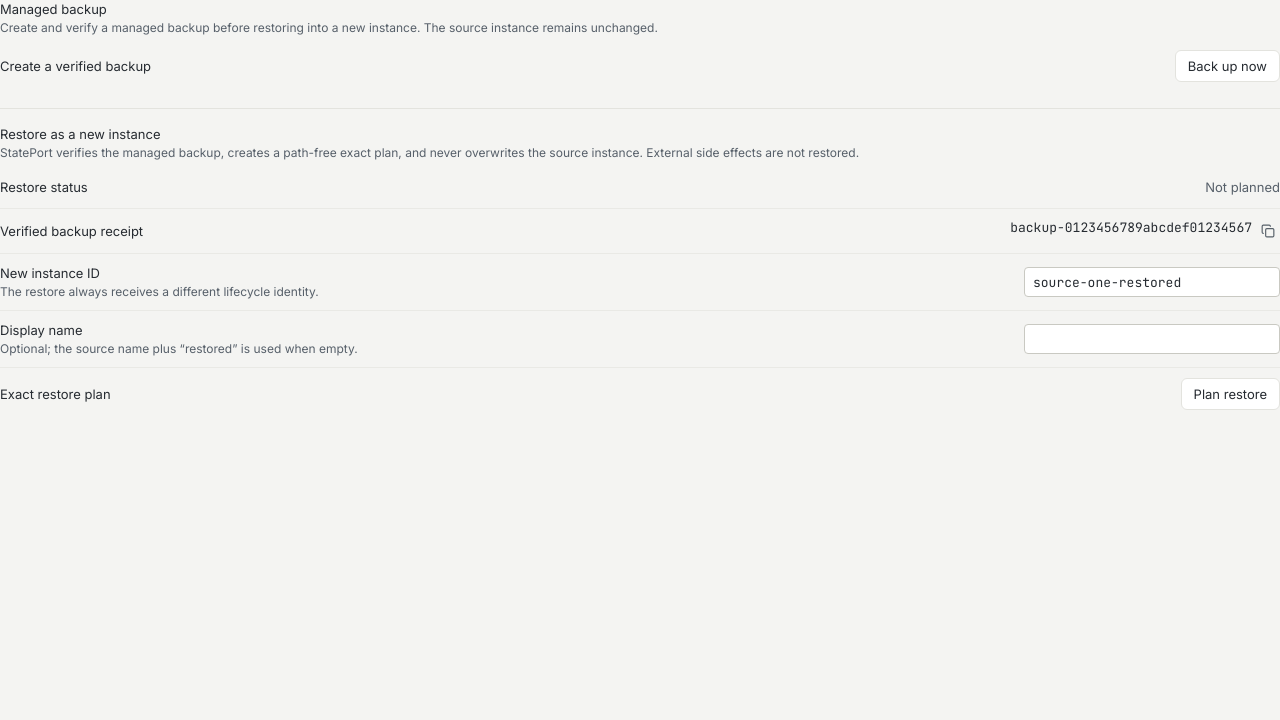
Test: does not carry a reviewed approval or confirmation dialog to another instance
Expected: the text "backup-0123456789abcdef01234567" is shown, [1010,219,1252,237]
Step 1. Click the button with test id "restore-plan-action" → (1230, 394), box [1181,378,1279,410]
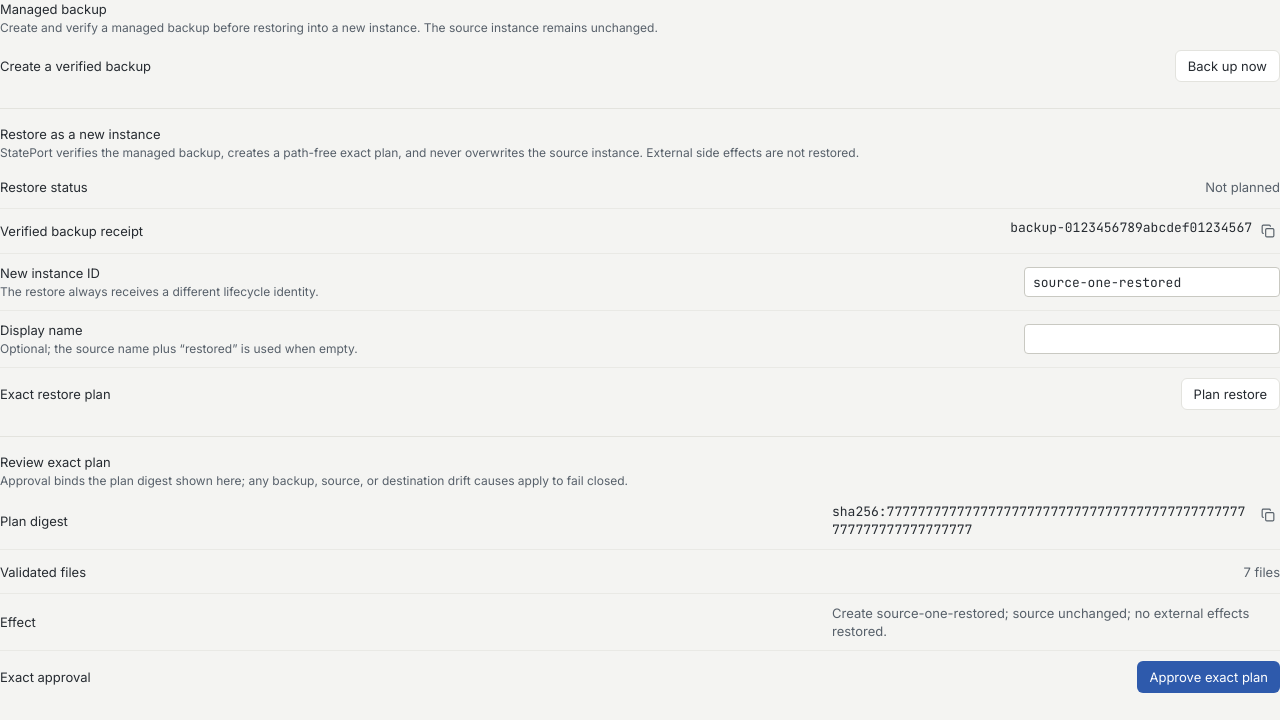
Step 2. Click the button with test id "restore-approve-action" → (1209, 677), box [1138,661,1279,693]
(page scrolled)
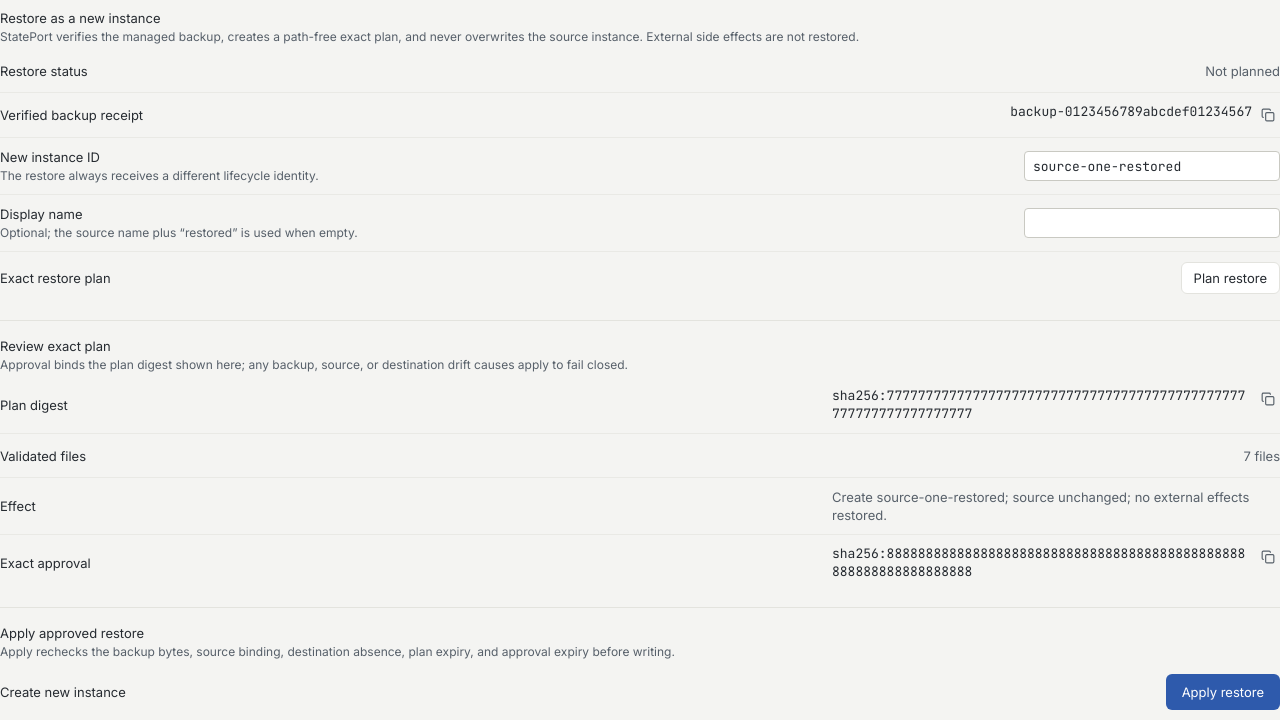
Step 3. Click the button with test id "restore-apply-action" → (1223, 692), box [1166,674,1279,710]
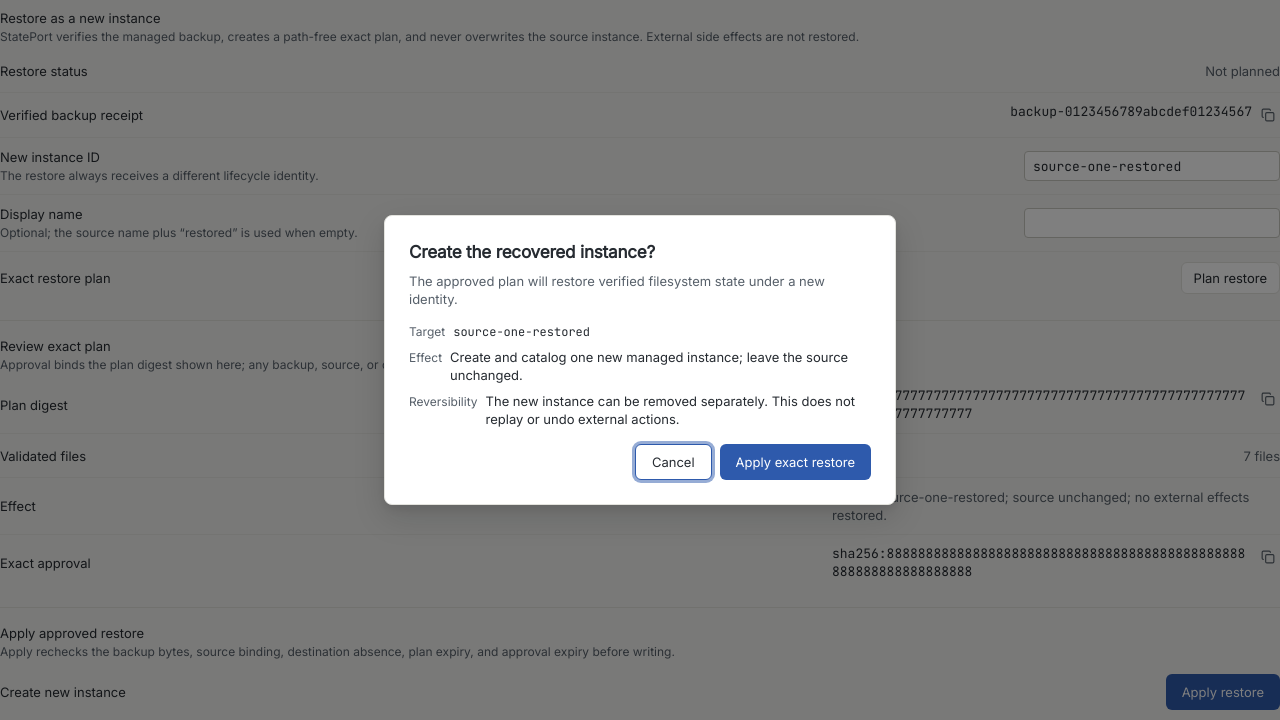
Expected: the button with test id "confirm-action" is shown, [720,444,871,480]
